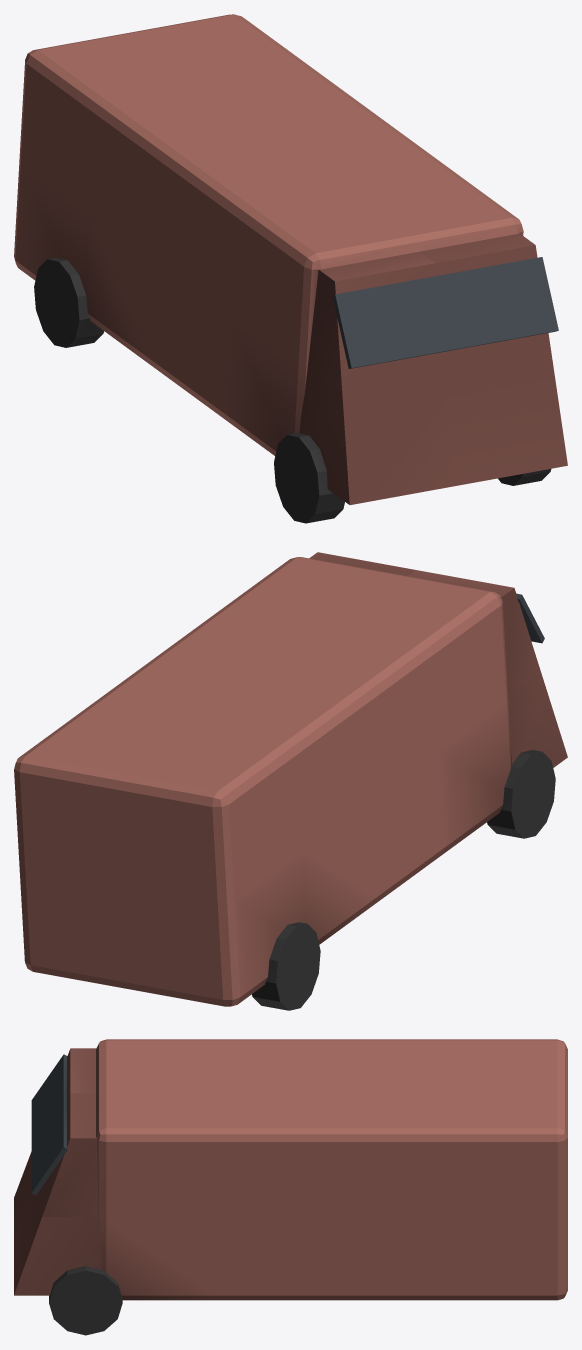
File: van_r1.glb
3 renders of one model, top to bottom at view 1: azimuth 30°, elevation 25°; view 2: azimuth 150°, elevation 25°; view 3: azimuth 270°, elevation 25°, orthographic. The views are drawn at different scales.
Parts seen in each view (by area): view 1: van_r1; view 2: van_r1; view 3: van_r1.
Boxes of the visible parts, <box> form: van_r1: <box>14,14,567,523</box>; van_r1: <box>14,552,567,1010</box>; van_r1: <box>14,1039,567,1335</box>.
Size of what is drawn, in the model's own units: 2.2 by 2.31 by 5.4.
